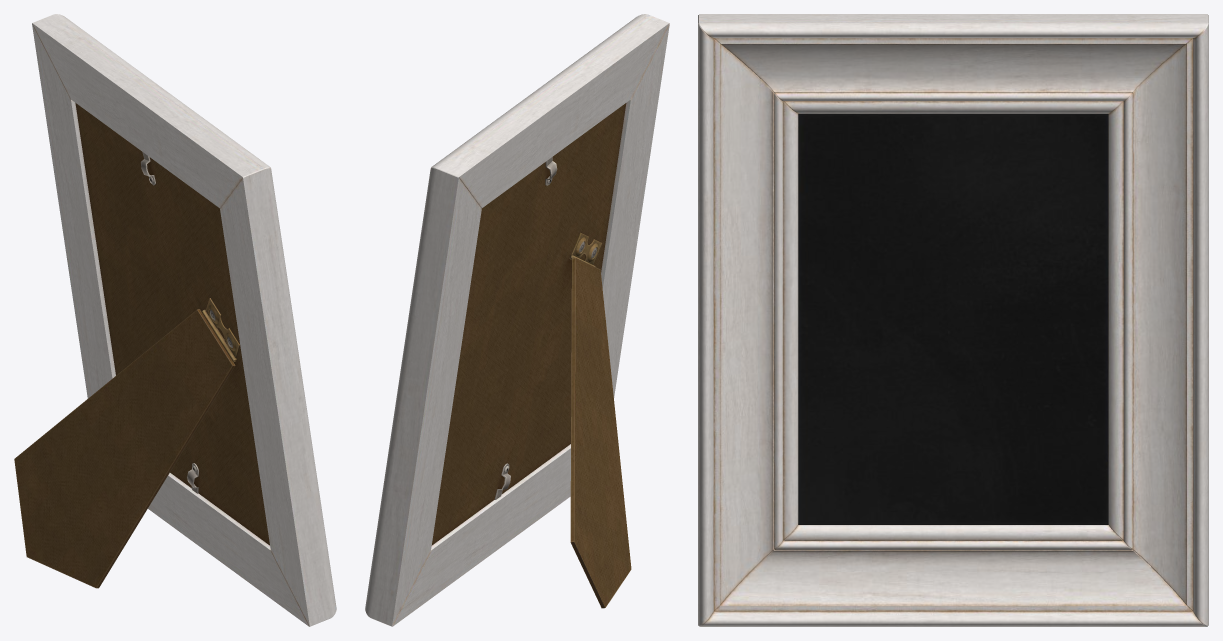
Rendered from standingFrame.glb.
3 views of the same model, side by side, from view 1: azimuth 30°, elevation 25°; view 2: azimuth 150°, elevation 25°; view 3: azimuth 270°, elevation 25° (orthographic). The views are drawn at different scales.
Parts seen in each view (by area): view 1: standing_picture_frame_02; view 2: standing_picture_frame_02; view 3: standing_picture_frame_02.
Part boxes in pixels (x1=…): standing_picture_frame_02: x1=14, y1=14, x2=336, y2=626; standing_picture_frame_02: x1=365, y1=14, x2=669, y2=626; standing_picture_frame_02: x1=698, y1=14, x2=1208, y2=626.
Bounding box in the file's own units: 0.1023 × 0.2664 × 0.2169.
3 materials, 3 textured.
